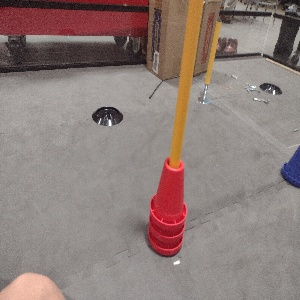Blue_1: (280, 135, 299, 190)
Red_3: (146, 154, 187, 257)
